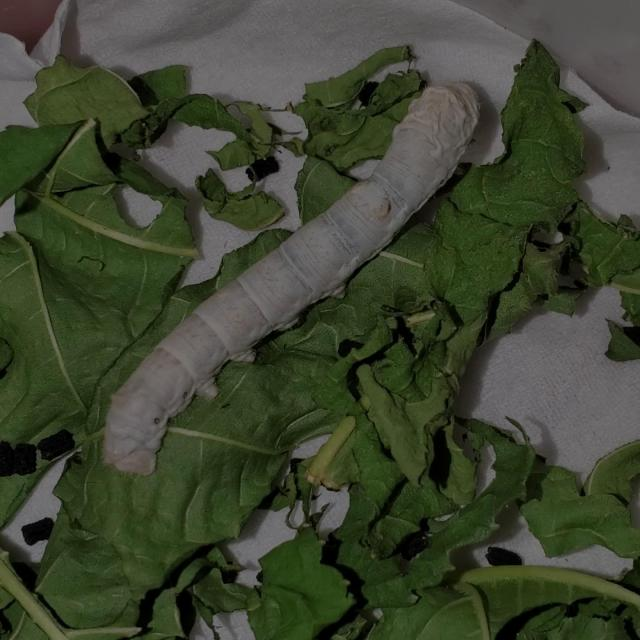Healthy: (92, 77, 486, 484)
